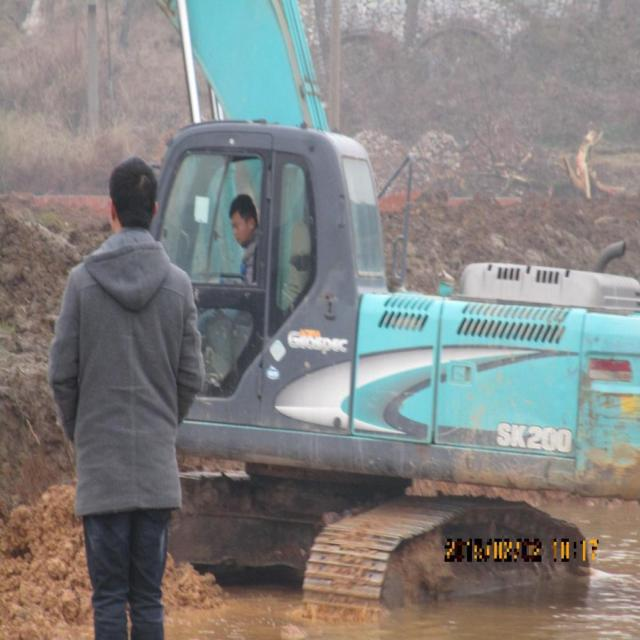excavator: (124, 0, 639, 631)
